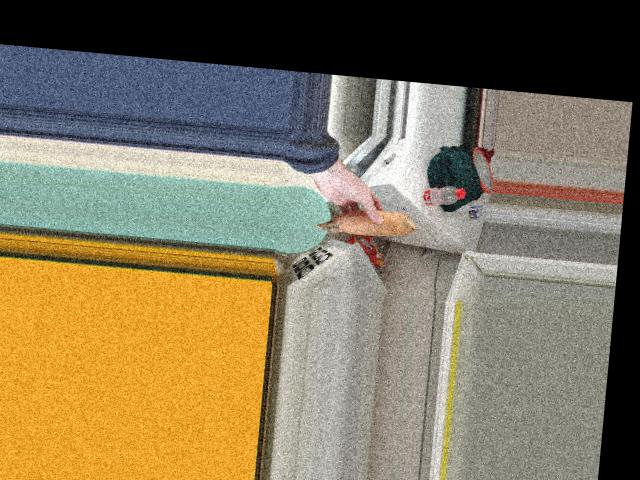sweet_potato: (323, 201, 411, 241)
